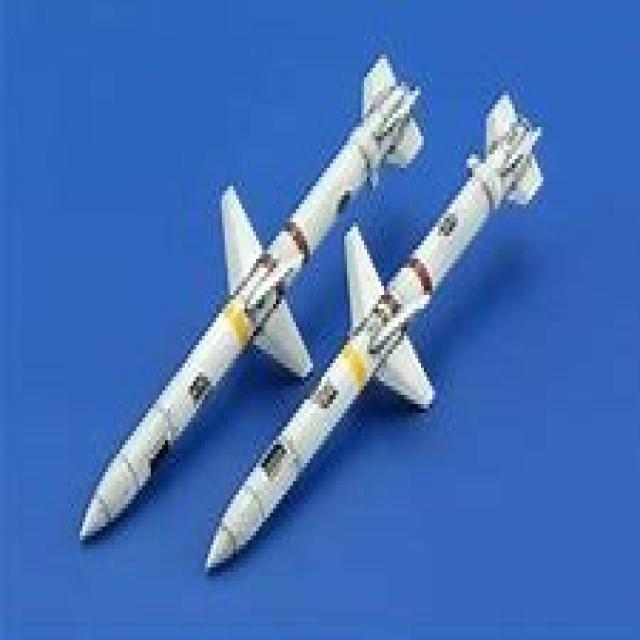missile: (79, 67, 424, 549), (196, 112, 548, 565)
